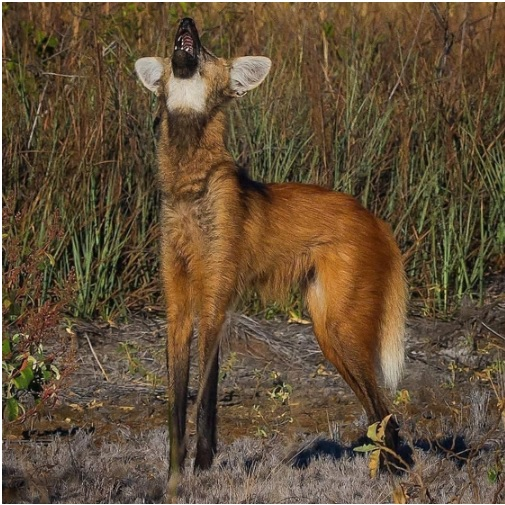LoboGuara: (114, 16, 421, 495)
